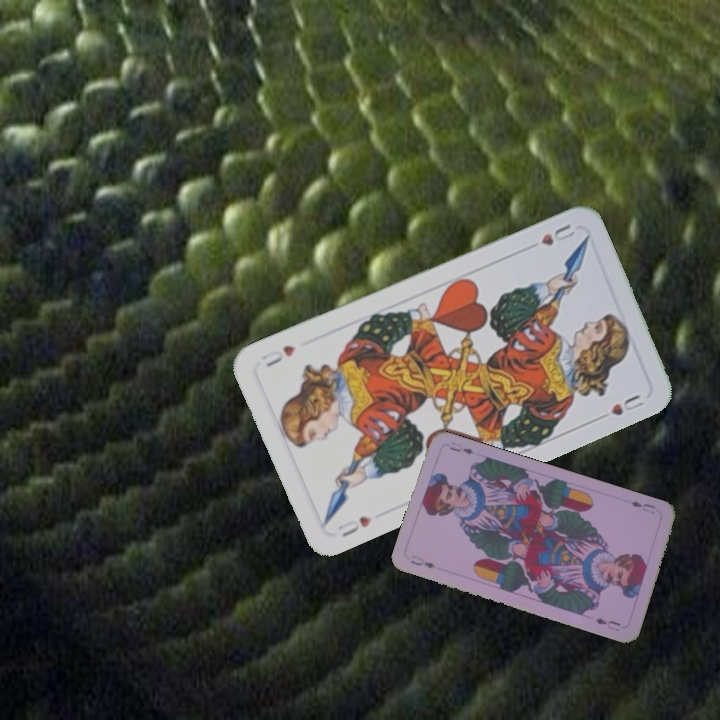EU: (626, 496, 658, 516), (406, 551, 438, 571)
HU: (536, 220, 578, 248), (334, 512, 374, 540)
